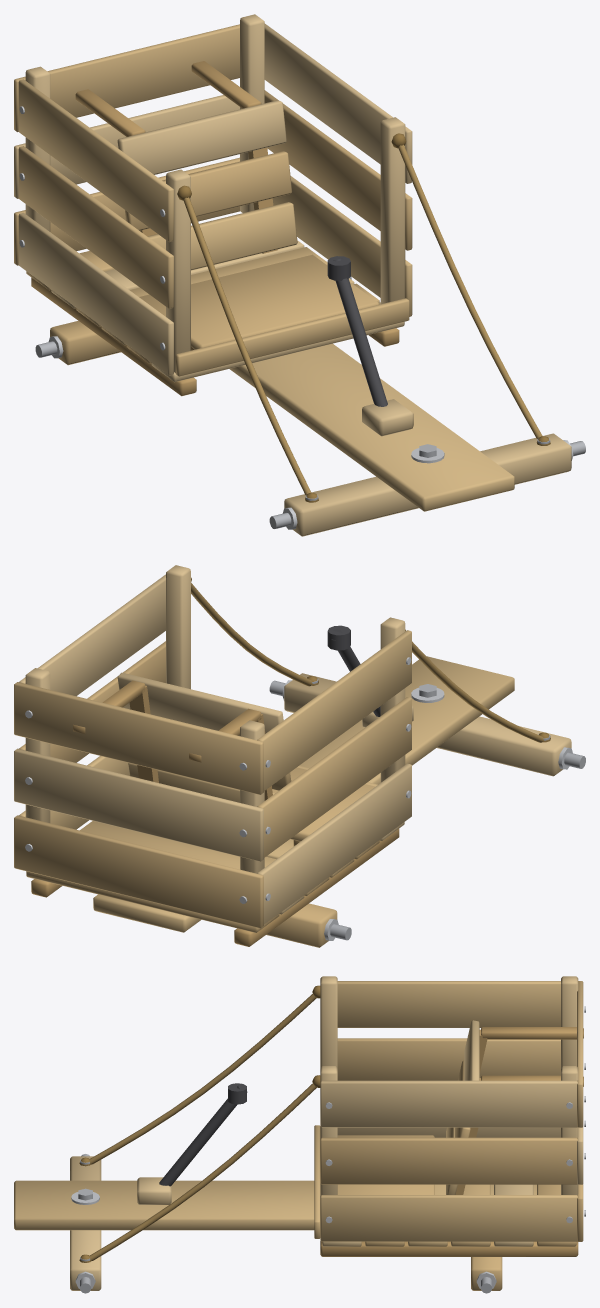
Rendered from crate.glb.
3 renders of one model, top to bottom at view 1: azimuth 30°, elevation 25°; view 2: azimuth 150°, elevation 25°; view 3: azimuth 270°, elevation 25°, orthographic. The views are drawn at different scales.
Visible parts, largest first — view 1: crate, crate_wreck; view 2: crate, crate_wreck; view 3: crate, crate_wreck.
Part boxes in pixels (<box>): crate: <box>14,14,584,529</box>; crate_wreck: <box>36,256,585,536</box>; crate: <box>14,565,585,946</box>; crate_wreck: <box>93,625,585,947</box>; crate: <box>14,976,585,1293</box>; crate_wreck: <box>14,1083,536,1290</box>.
Size of the model in its own units: 1.07 by 0.834 by 2.
